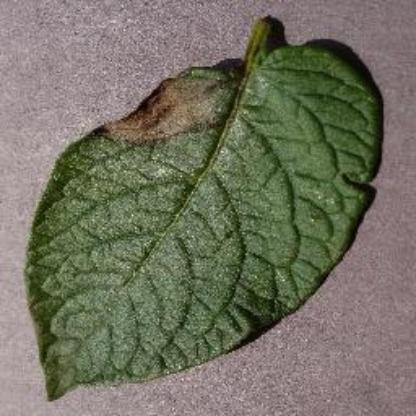Late-Blight: (22, 13, 390, 408)
